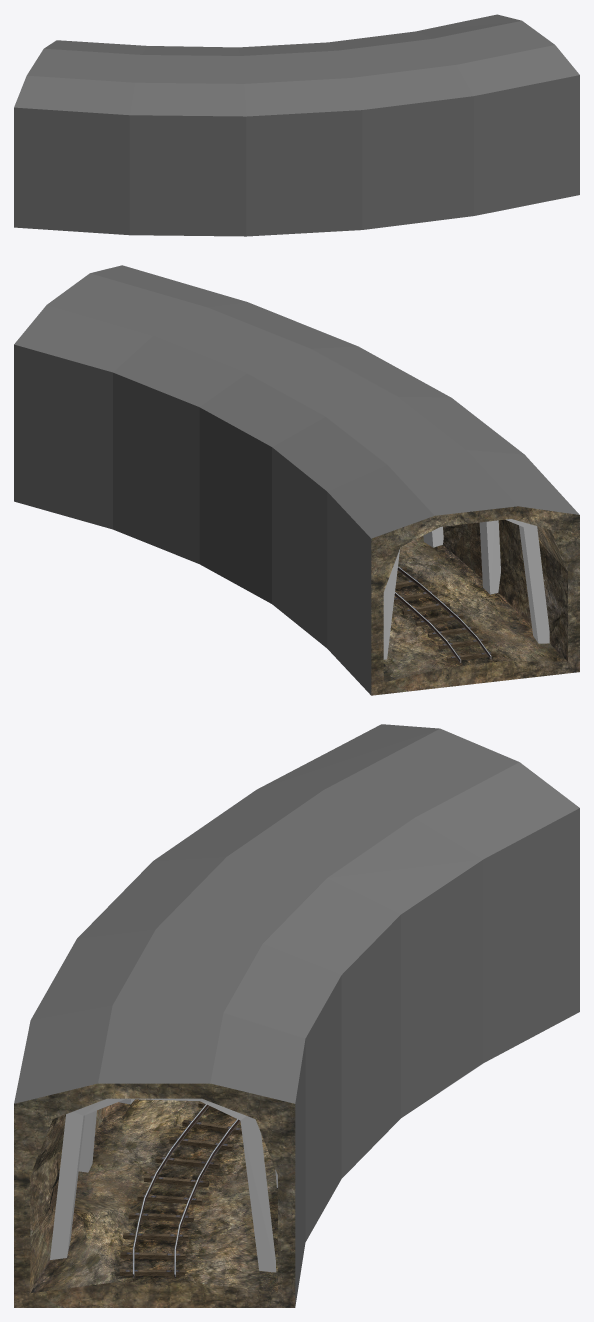
File: svgoldmine06.dae
The picture shows the model from 3 angles, top to bottom: view 1: azimuth 30°, elevation 25°; view 2: azimuth 150°, elevation 25°; view 3: azimuth 270°, elevation 25°; orthographic projection. The views are drawn at different scales.
Parts seen in each view (by area): view 1: cylinder46_sep58-0; view 2: cylinder46_sep58-0; view 3: cylinder46_sep58-0.
Part boxes in pixels (bbox=[...]): cylinder46_sep58-0: bbox=[14, 14, 579, 236]; cylinder46_sep58-0: bbox=[14, 265, 579, 695]; cylinder46_sep58-0: bbox=[14, 724, 579, 1307].
Size of the model in its own units: 4792 by 1320 by 3018.
